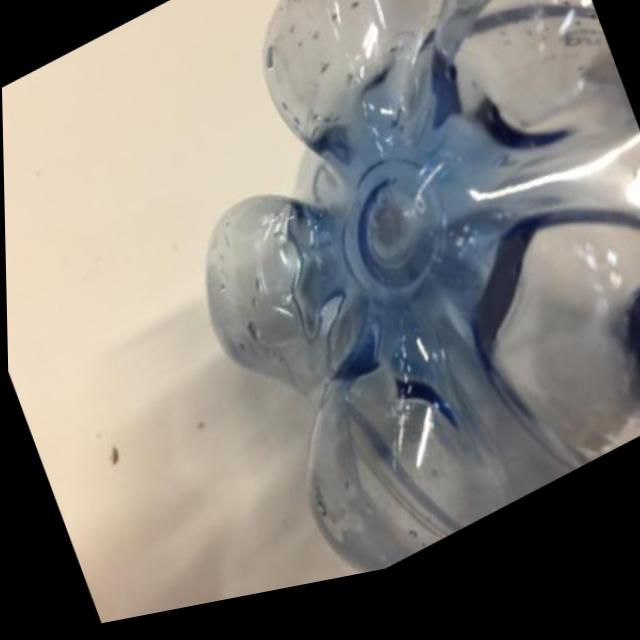plastic: (80, 0, 640, 628)
